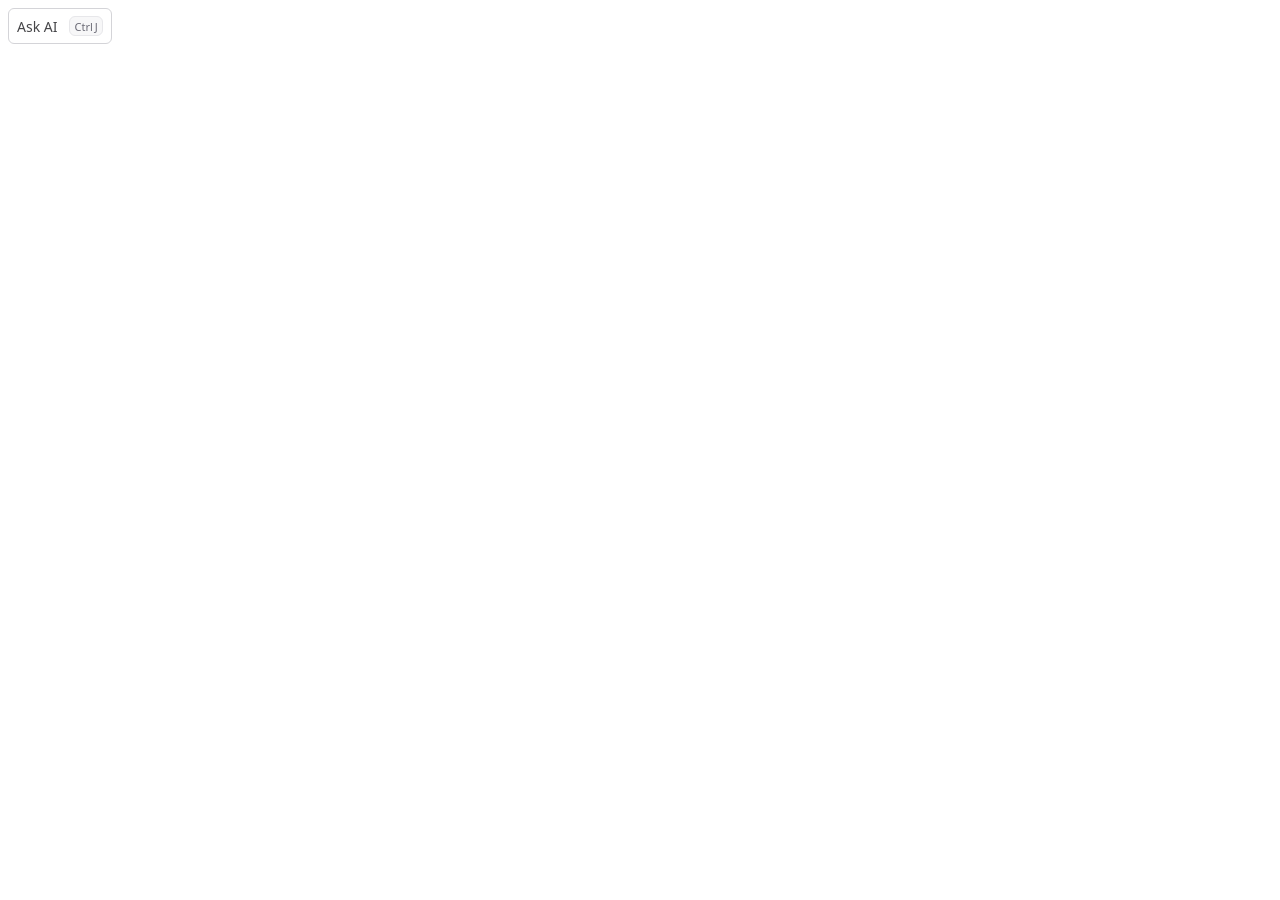
it: resizes the docked panel with the keyboard, and resets it
The image size is (1280, 900).
Later steps or results of the test are not shown.
Click the button "Ask AI Ctrl J" at (60,26), box [8,8,112,44]
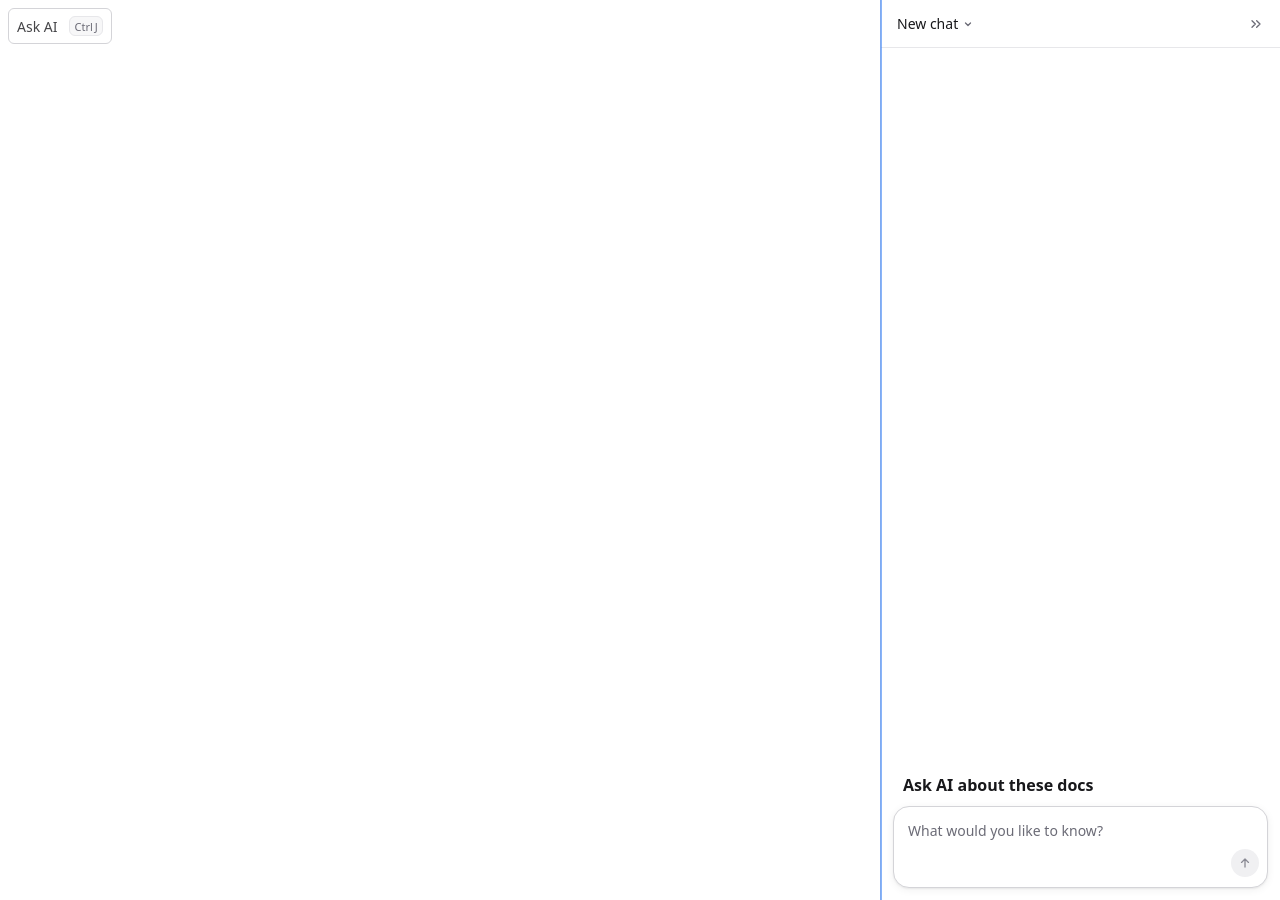
Press Arrowleft Arrowleft
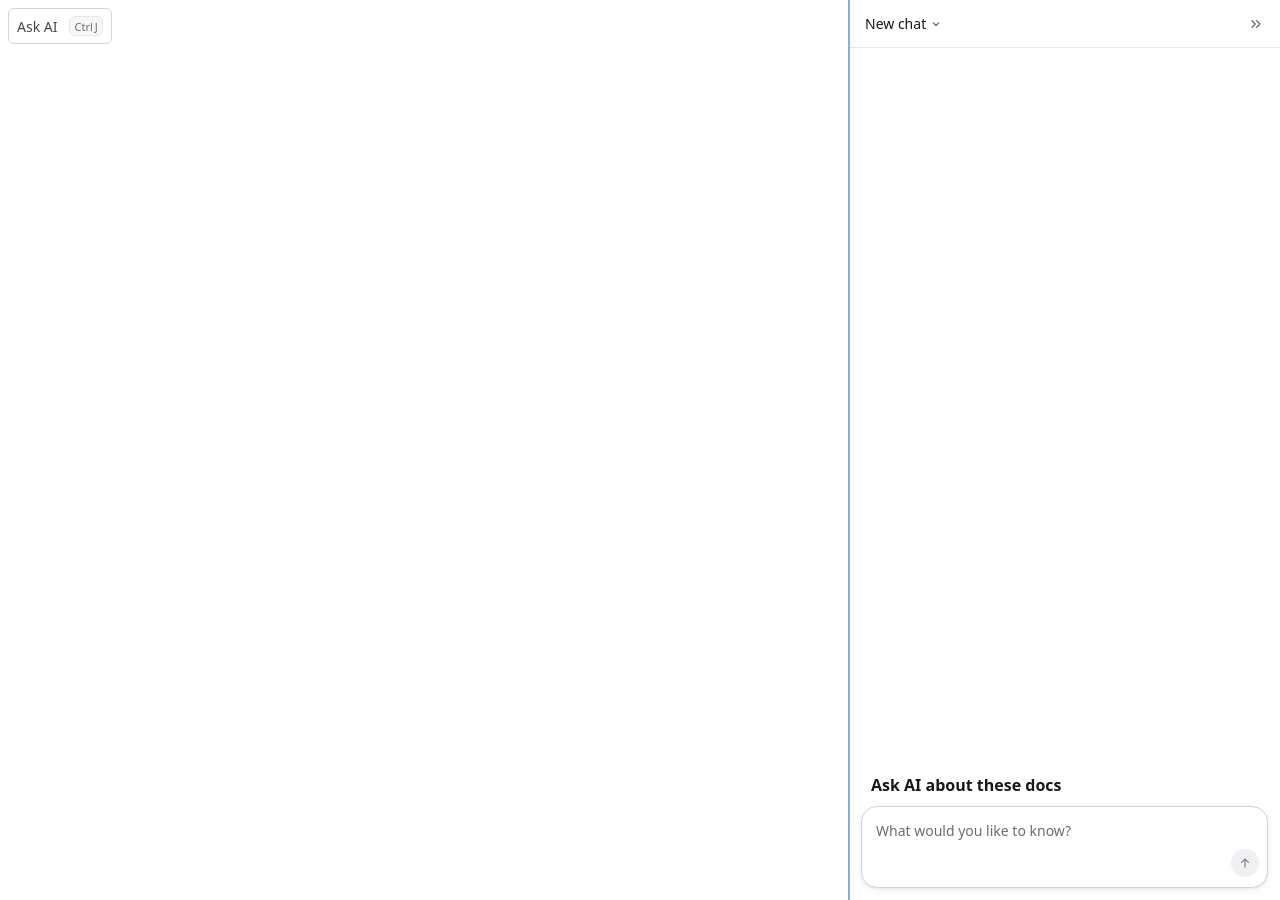
Result: the element named "Resize Ask AI" has attribute aria-valuenow="432" at [845,0,857,899]
Press End
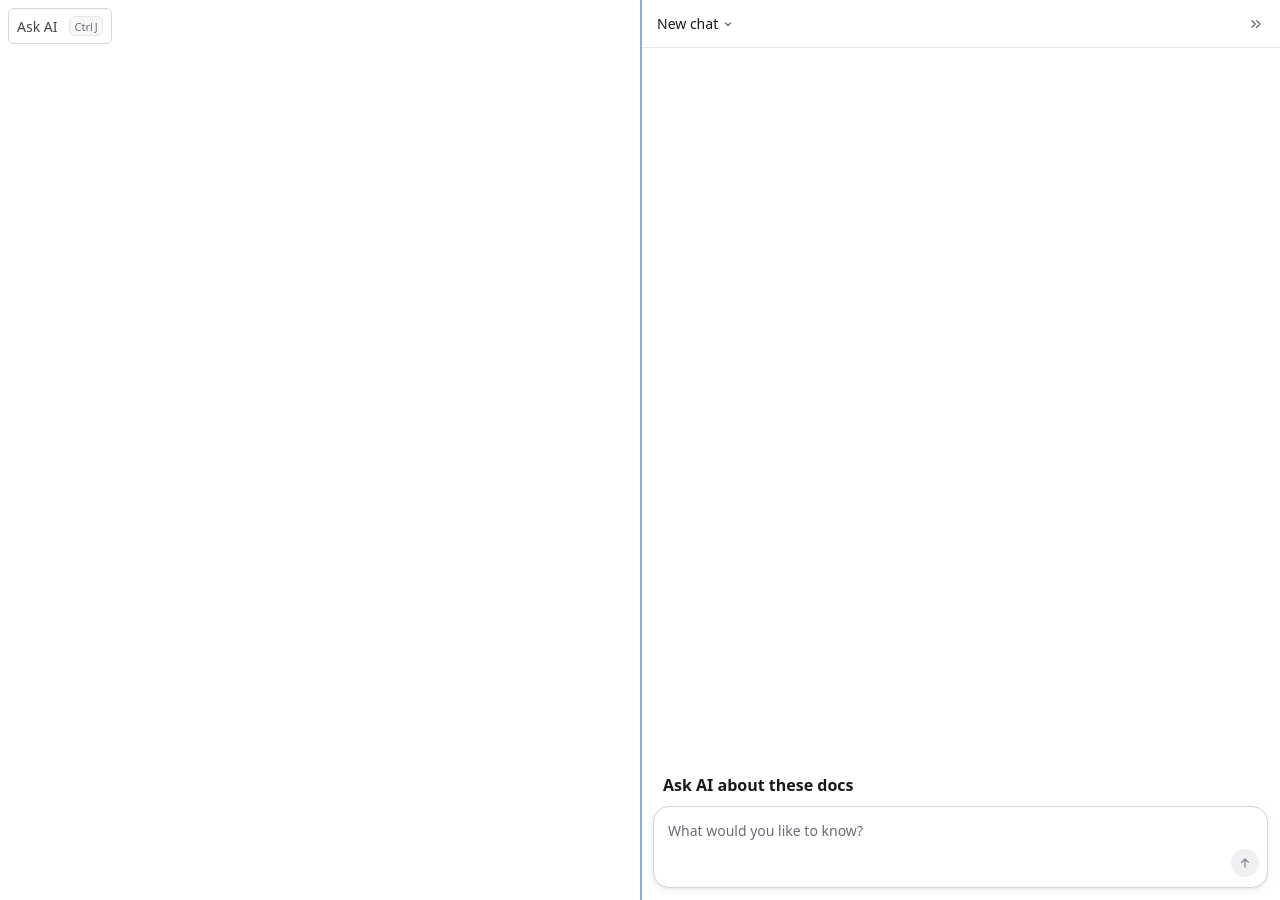
Result: the element named "Resize Ask AI" has attribute aria-valuenow="640" at [637,0,649,899]
Press Home
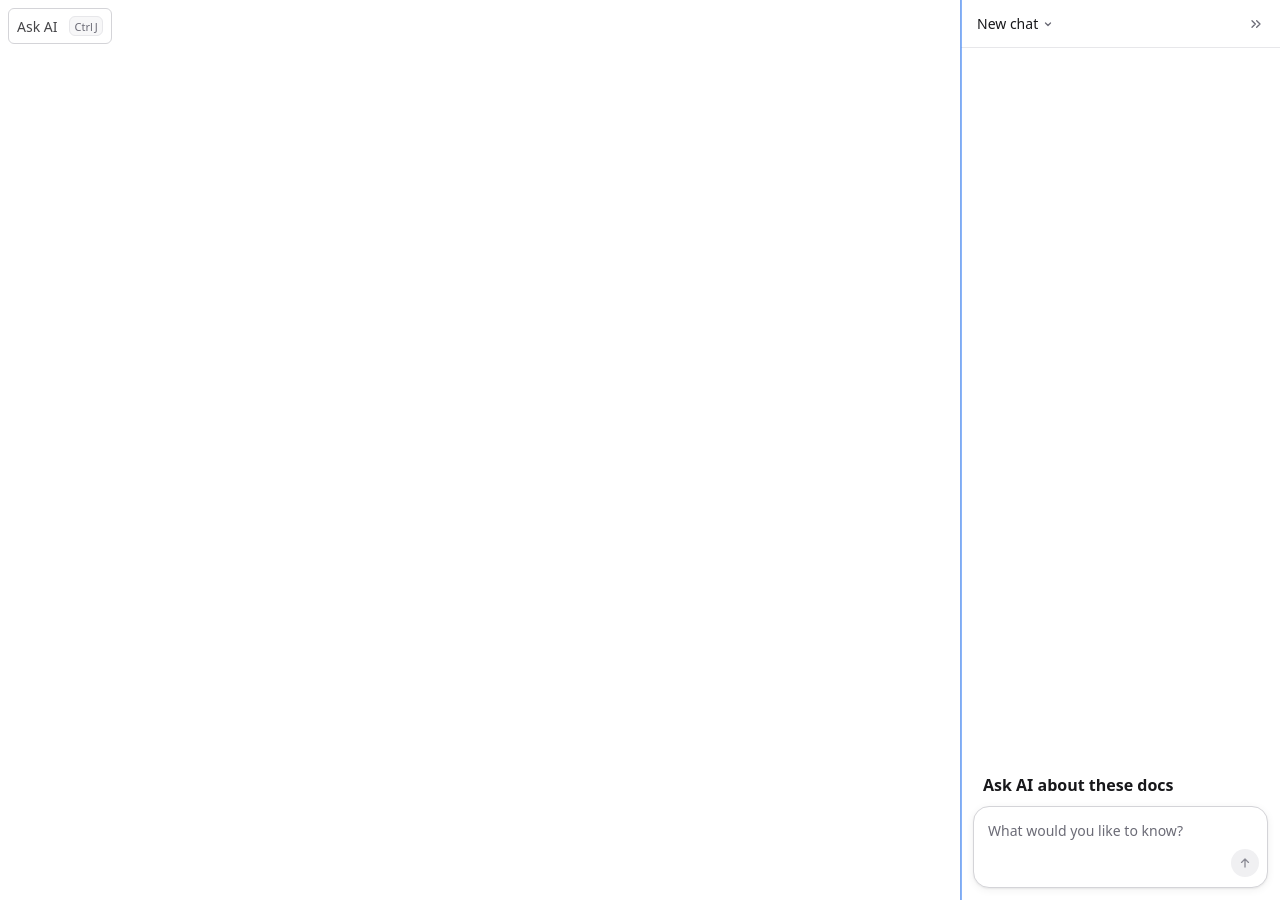
Result: the element named "Resize Ask AI" has attribute aria-valuenow="320"
Double-click the element named "Resize Ask AI" at (963,450), box [957,0,969,899]
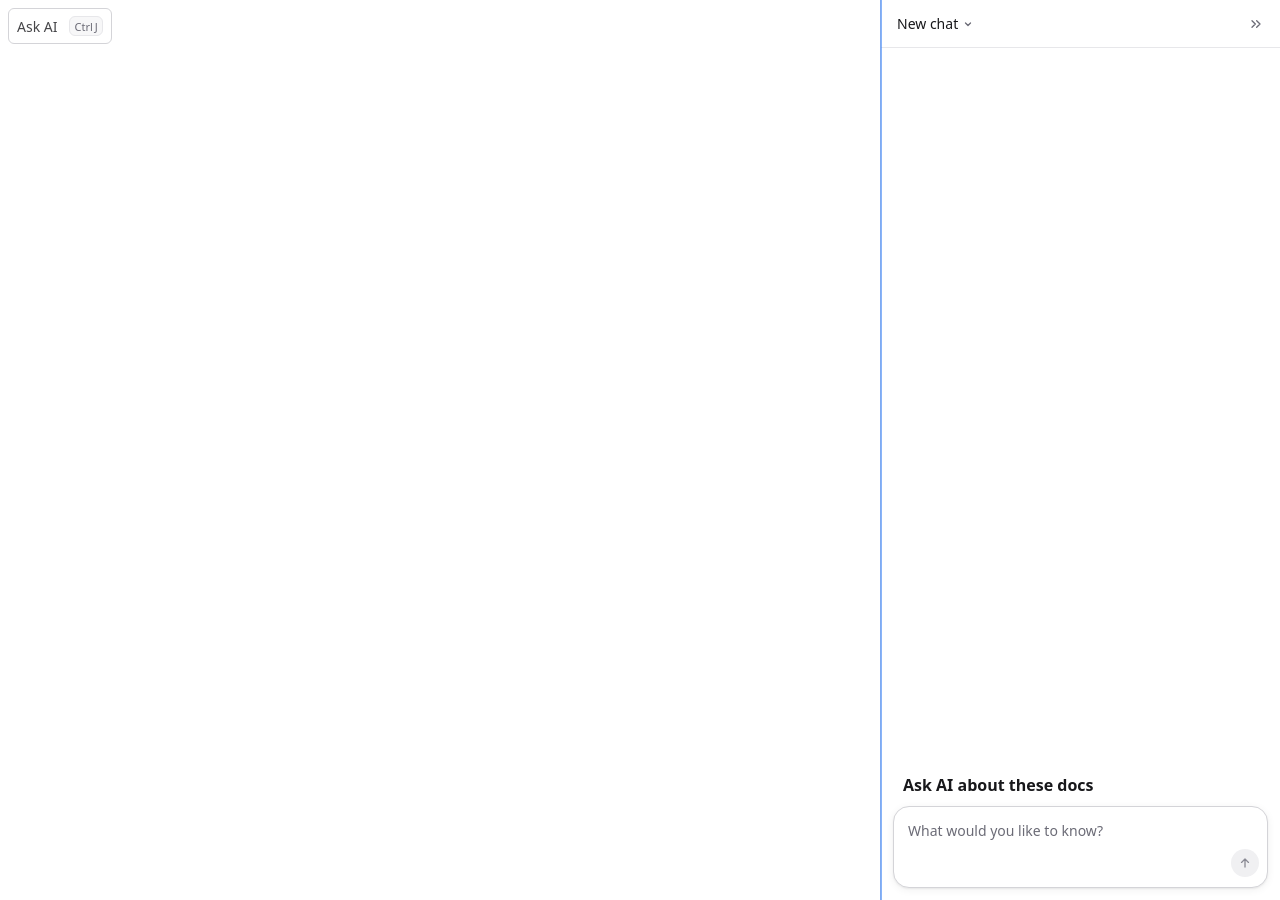
Result: the element named "Resize Ask AI" has attribute aria-valuenow="400" at [877,0,889,899]
